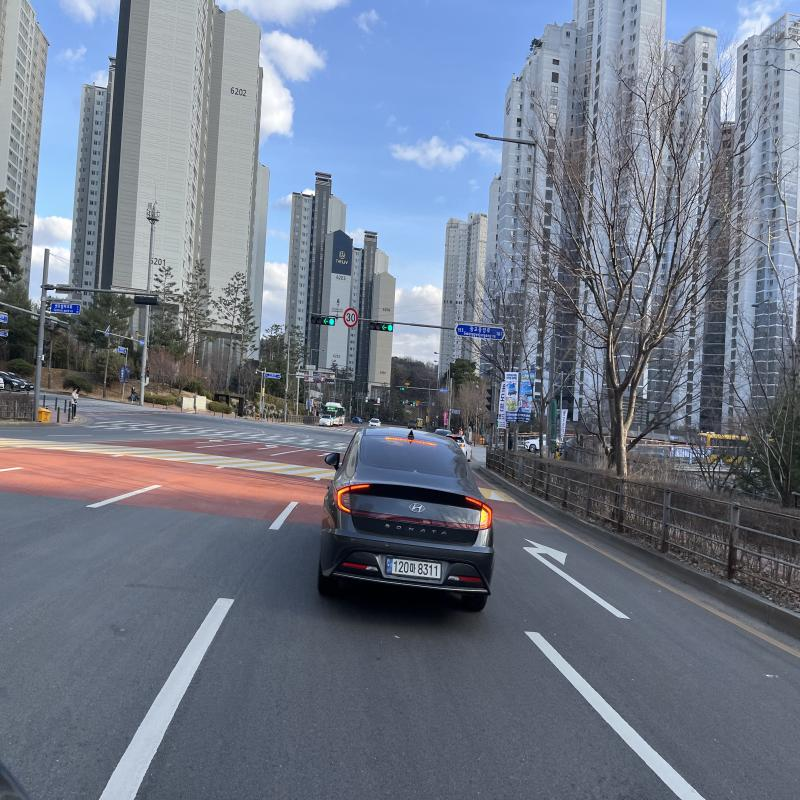green: (387, 324, 393, 332), (328, 318, 334, 325)
left: (381, 324, 387, 330), (323, 318, 328, 324)
